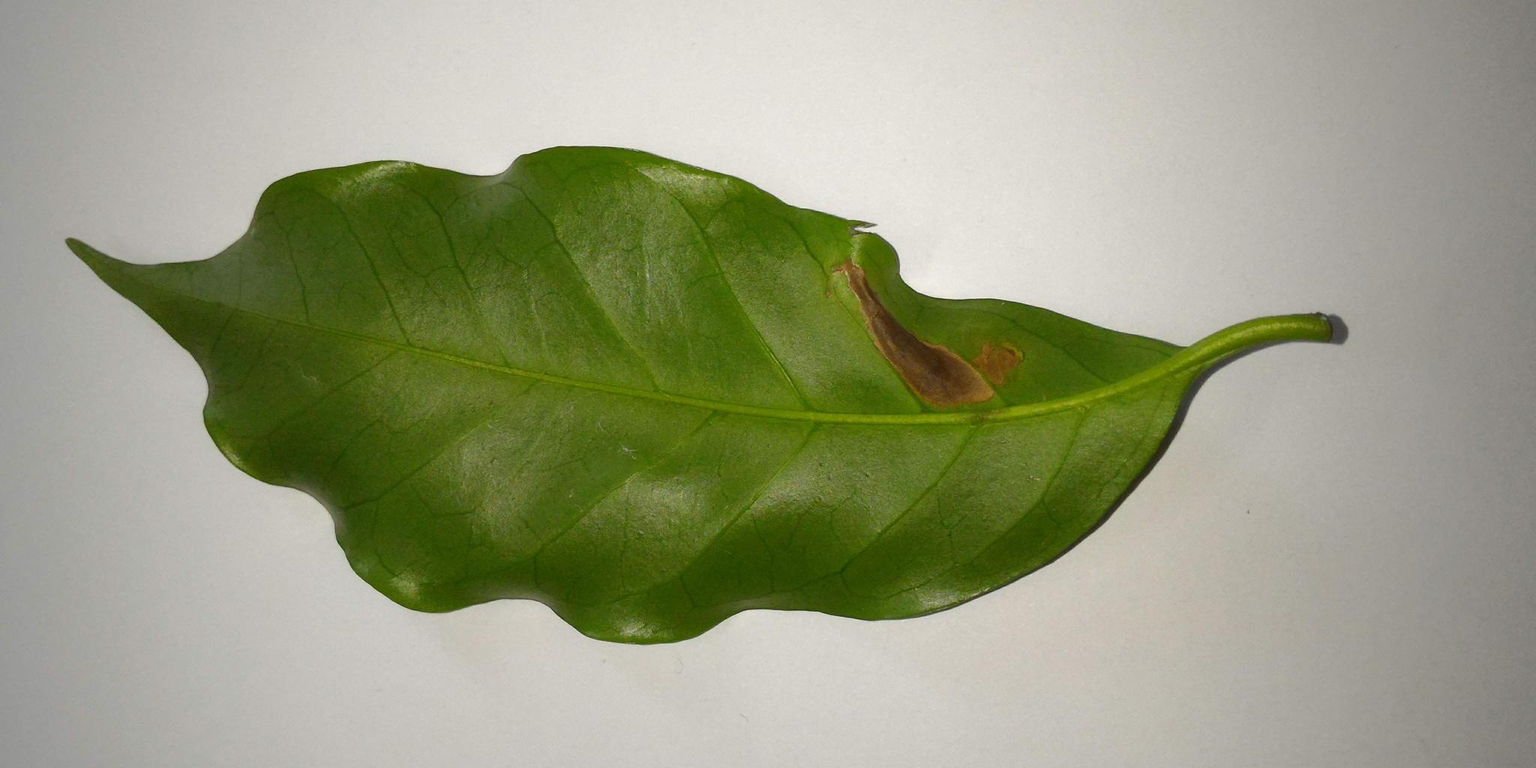Miner: (818, 241, 1039, 423)
